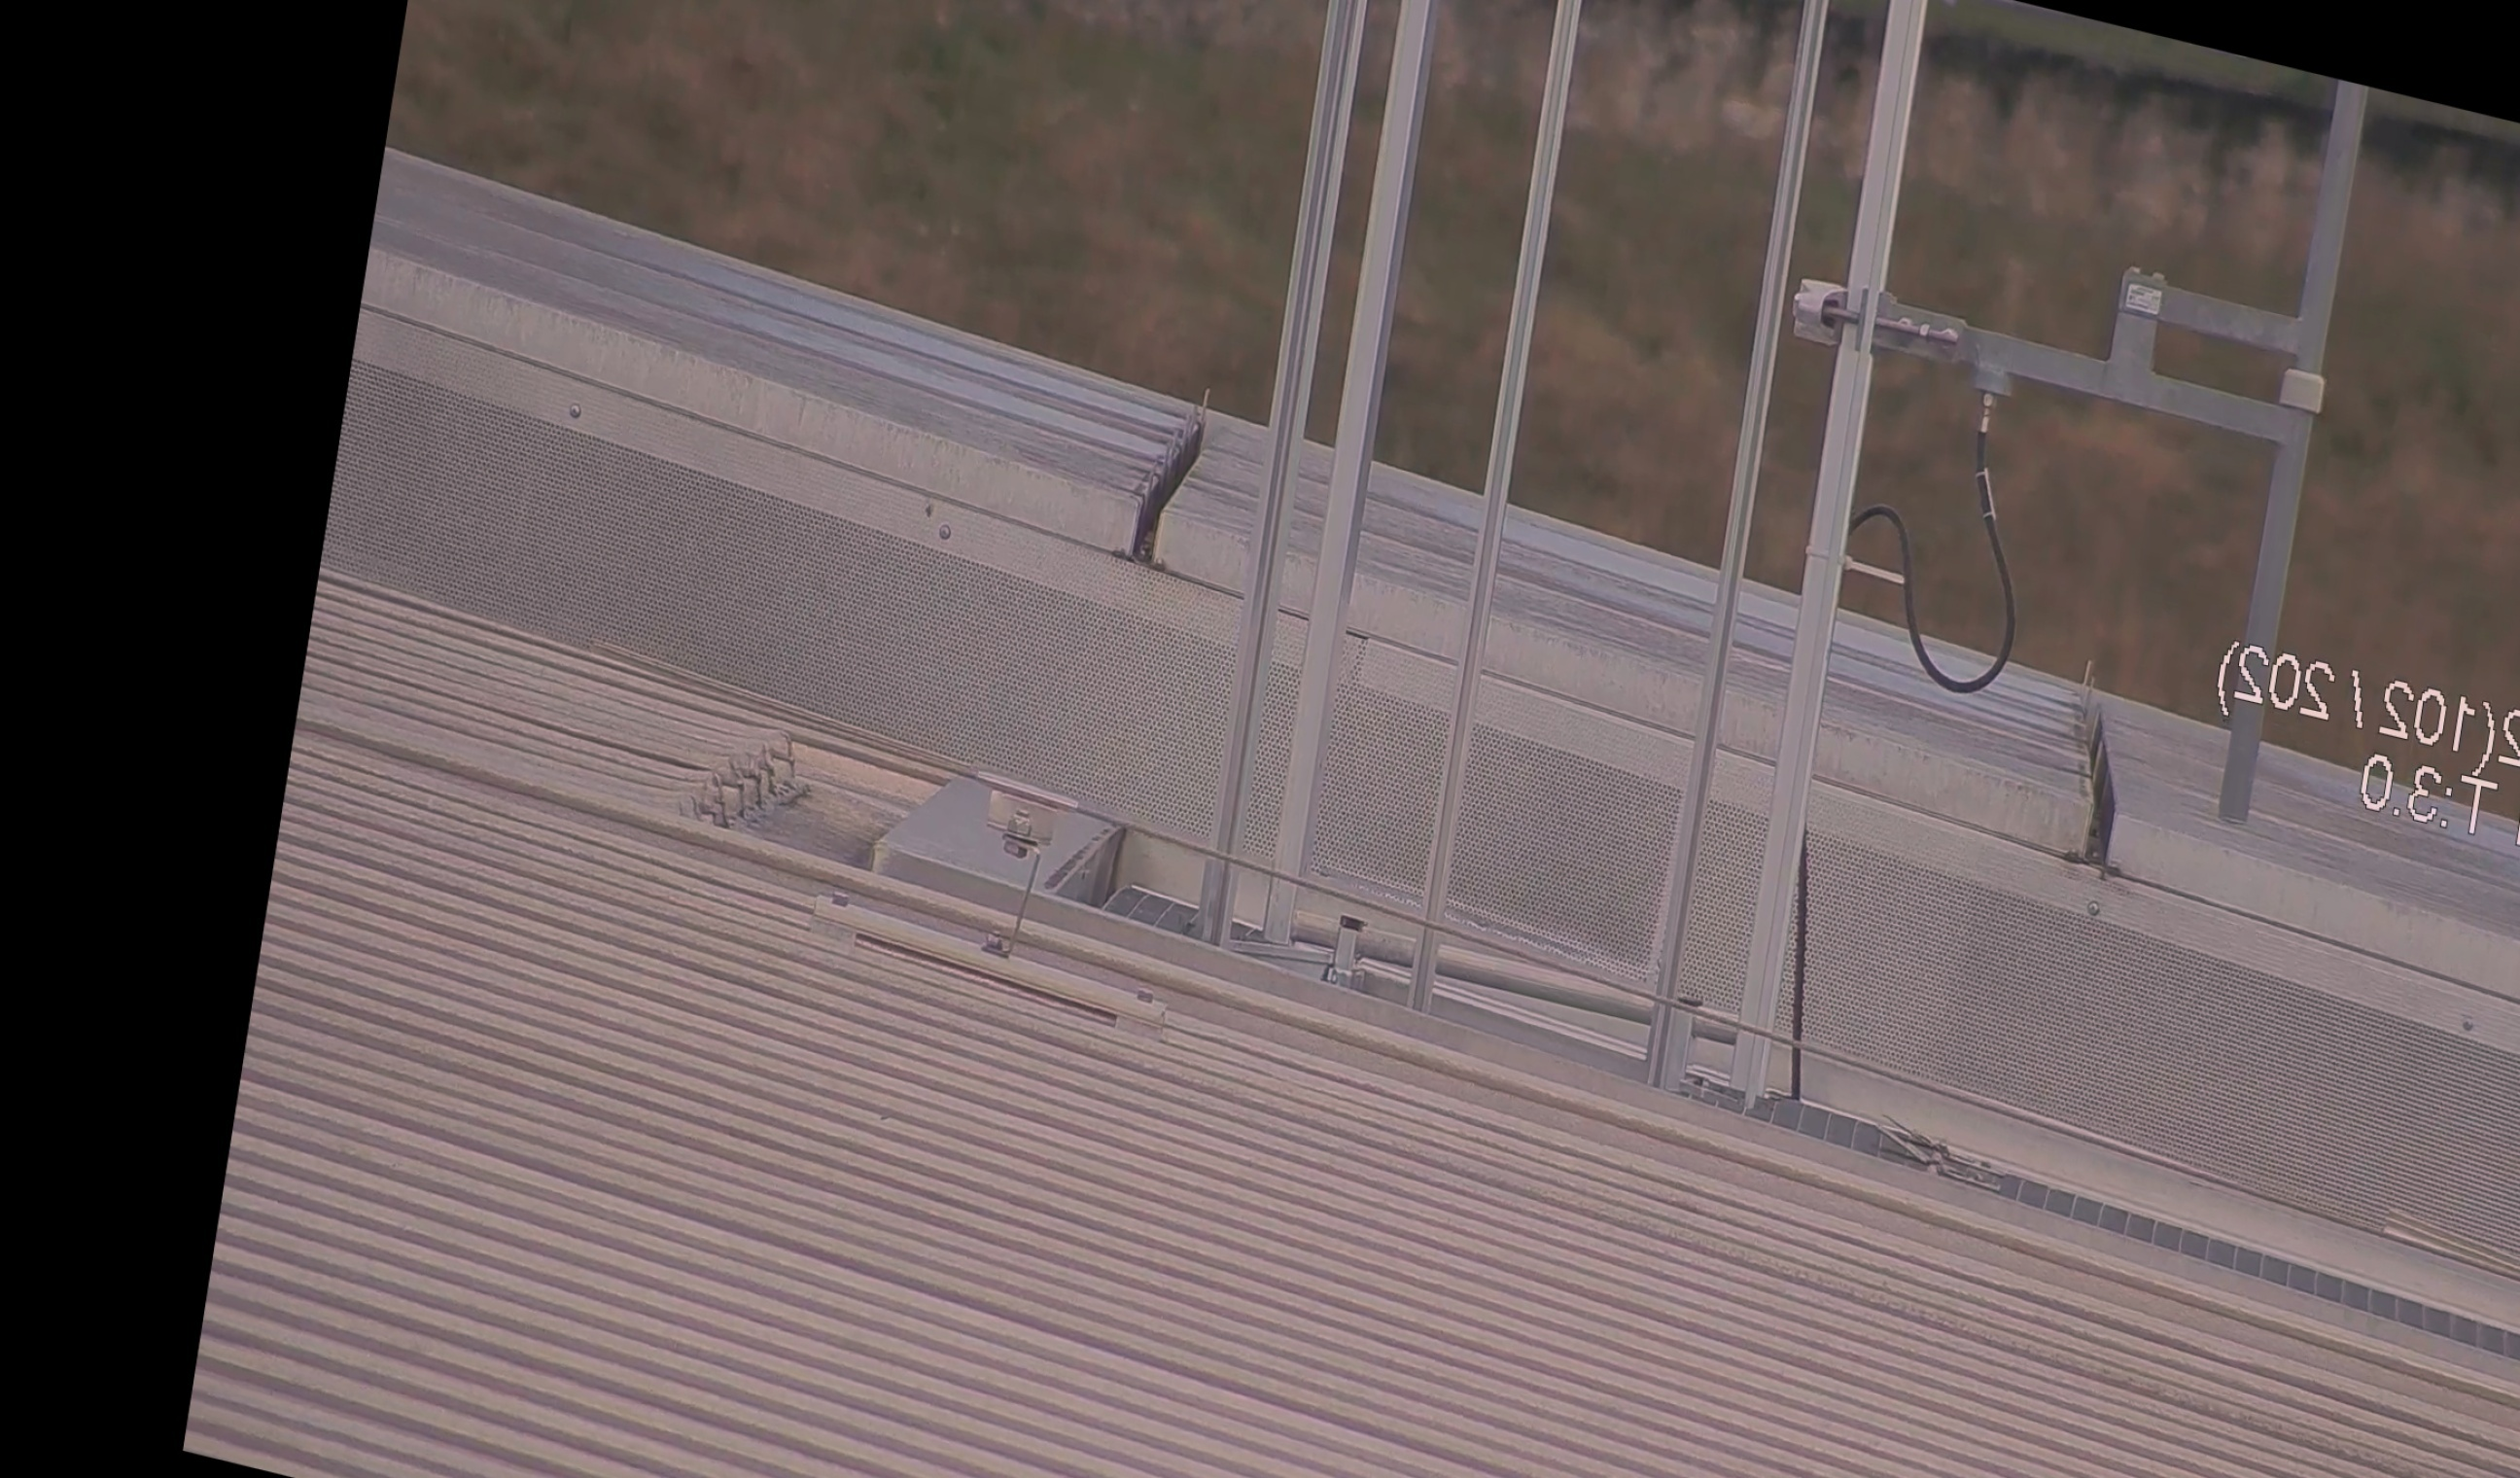Other: (1106, 364, 1222, 588)
